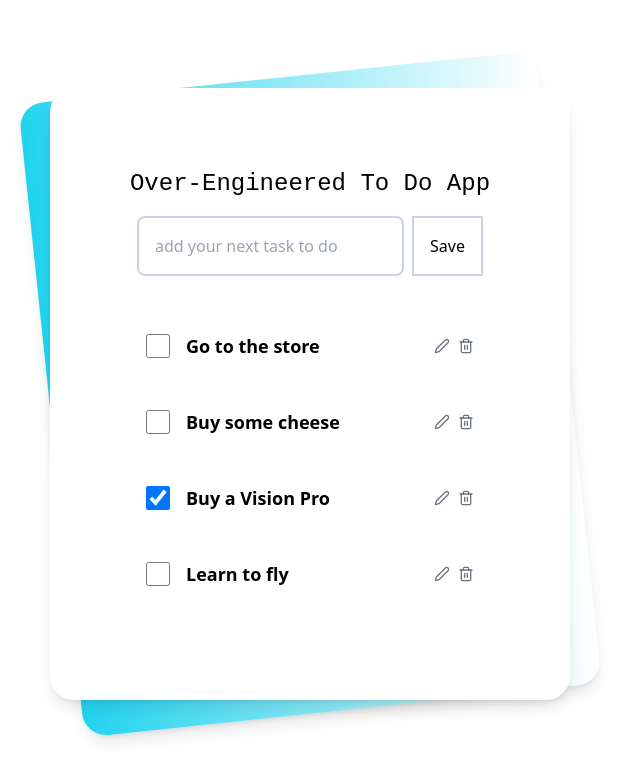
Test: App › adds items to the List
The image size is (621, 767).
expect the number of list items is 4: met, box [146, 334, 474, 358]; [146, 410, 474, 434]; [146, 486, 474, 510]; [146, 562, 474, 586]
Type "Go to the store" into the field with test id "task-input" at {"x": 270, "y": 246}, box [137, 216, 404, 276]
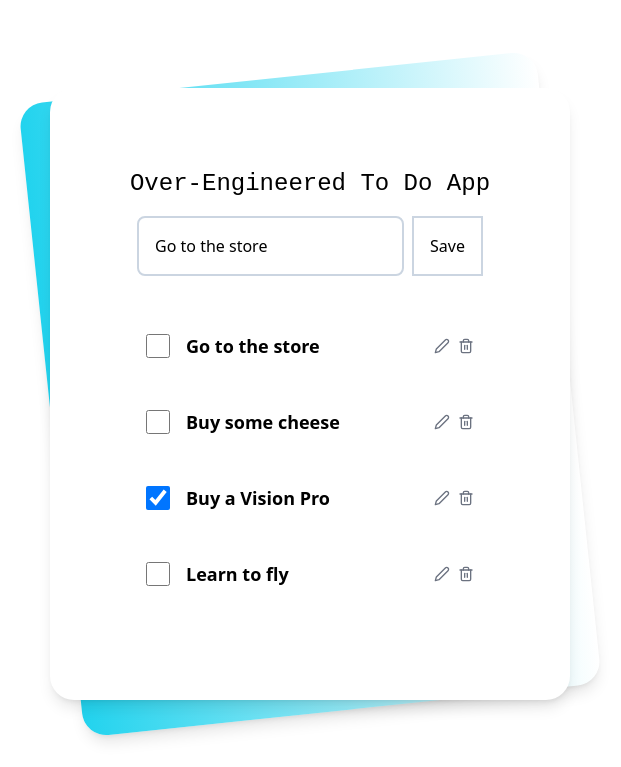
Click the button with test id "task-submit" at {"x": 447, "y": 246}, box [412, 216, 483, 276]
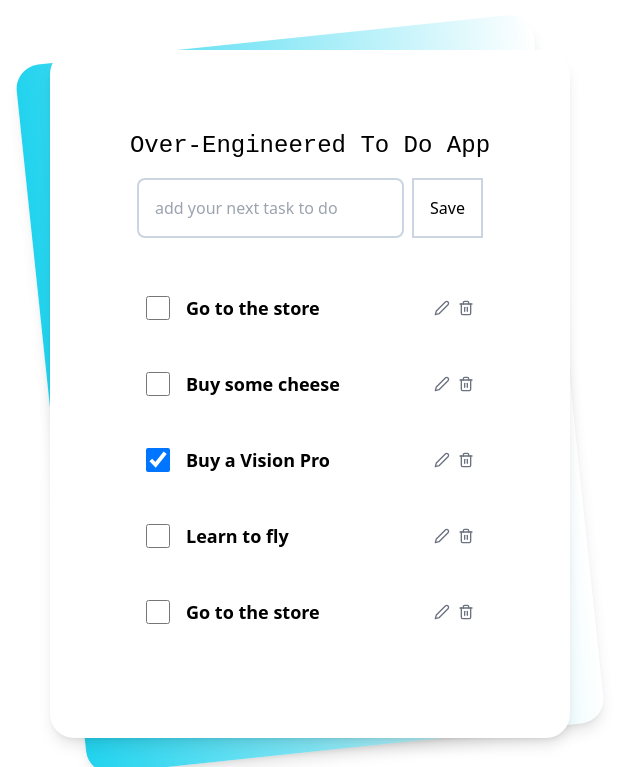
expect the list with test id "task-list" shows "Go to the store": met, box [186, 296, 320, 320]
expect the number of list items is 5: met, box [146, 296, 474, 320]; [146, 372, 474, 396]; [146, 448, 474, 472]; [146, 524, 474, 548]; [146, 600, 474, 624]
